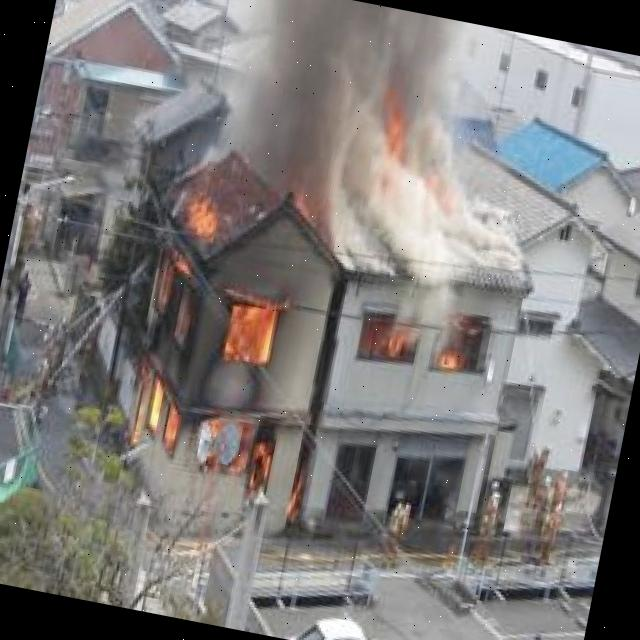fire: (114, 185, 328, 498), (365, 324, 477, 377)
